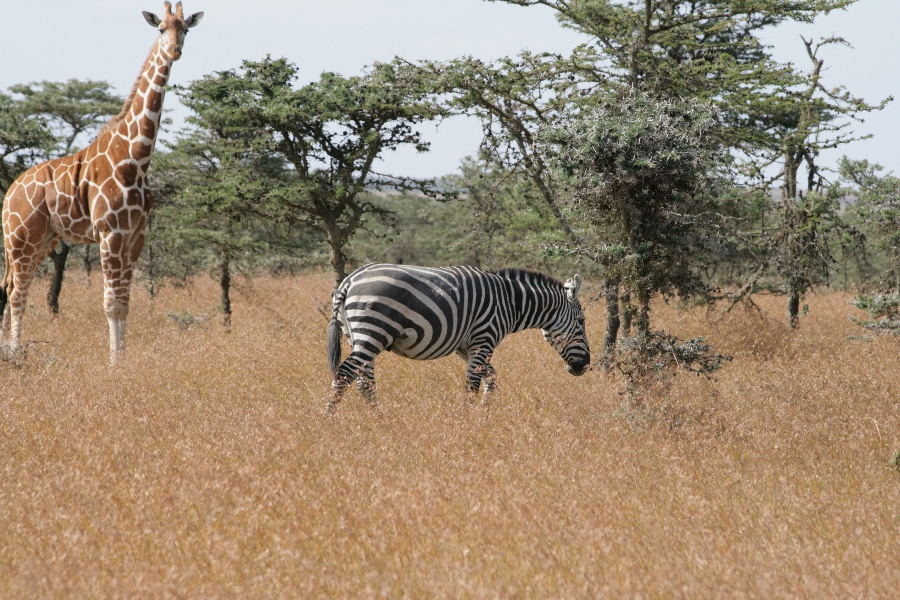giraffe: (1, 0, 201, 362)
